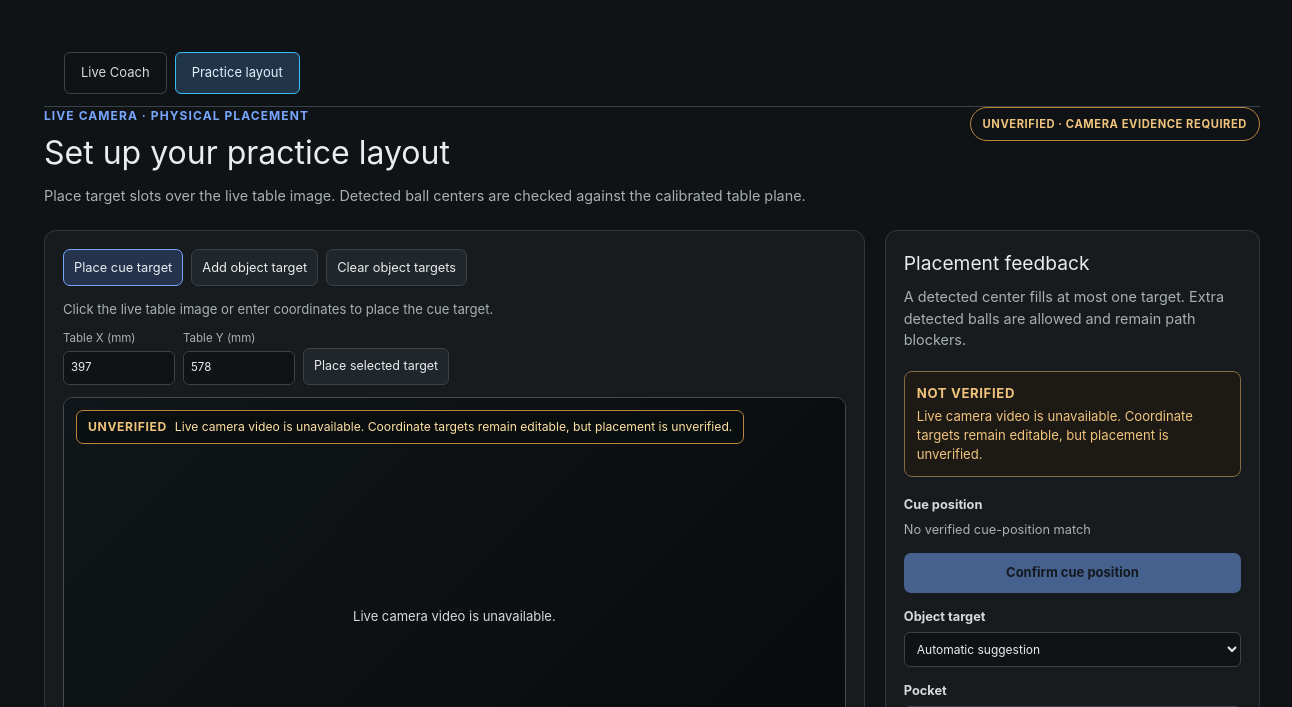
Scenario: PracticePage › renders an honest camera-unavailable state instead of a simulated physical table
The width and height of the screenshot is (1292, 707).
Expected: the text with test id "practice-camera-unavailable" shows "Live camera video is unavailable", [353,608,556,624]
Expected: the message with test id "practice-camera-state" shows "Unverified", [88,418,167,434]
Click the link "Live Coach".
click(115, 73)  # box [64,52,167,94]
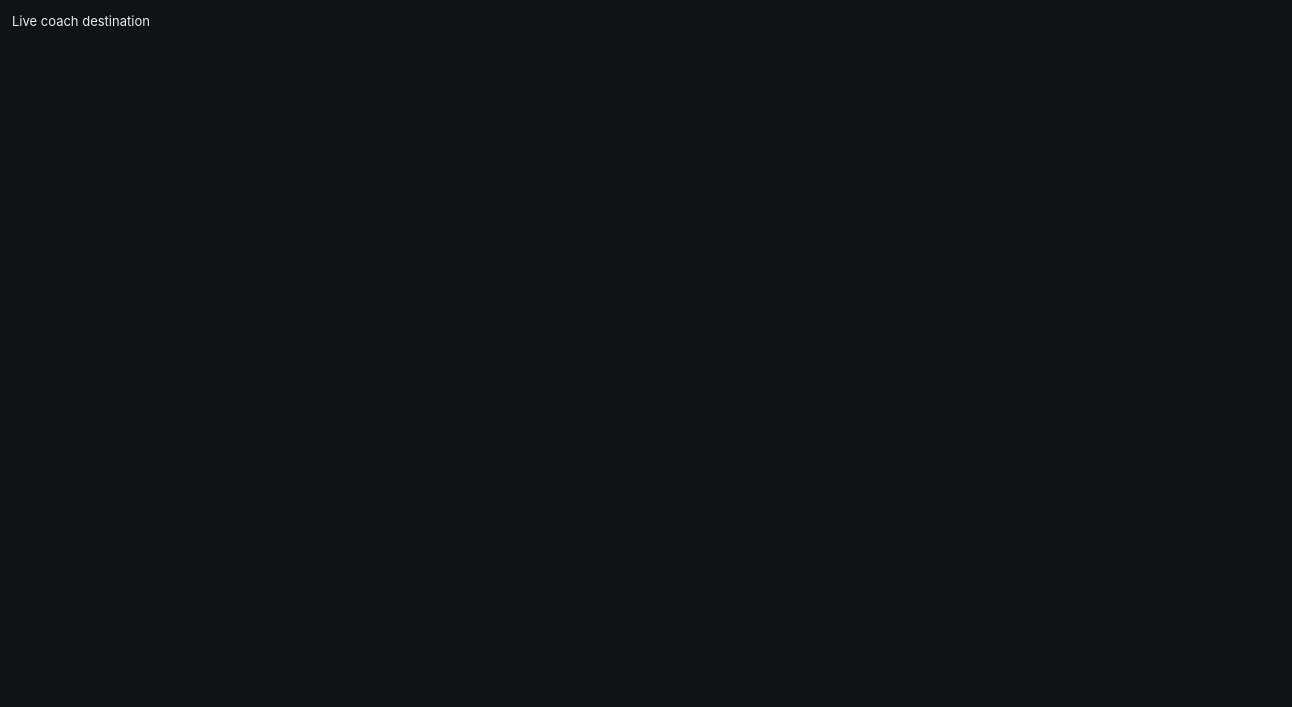
Expected: the text "Live coach destination" is shown, [12,13,150,29]
